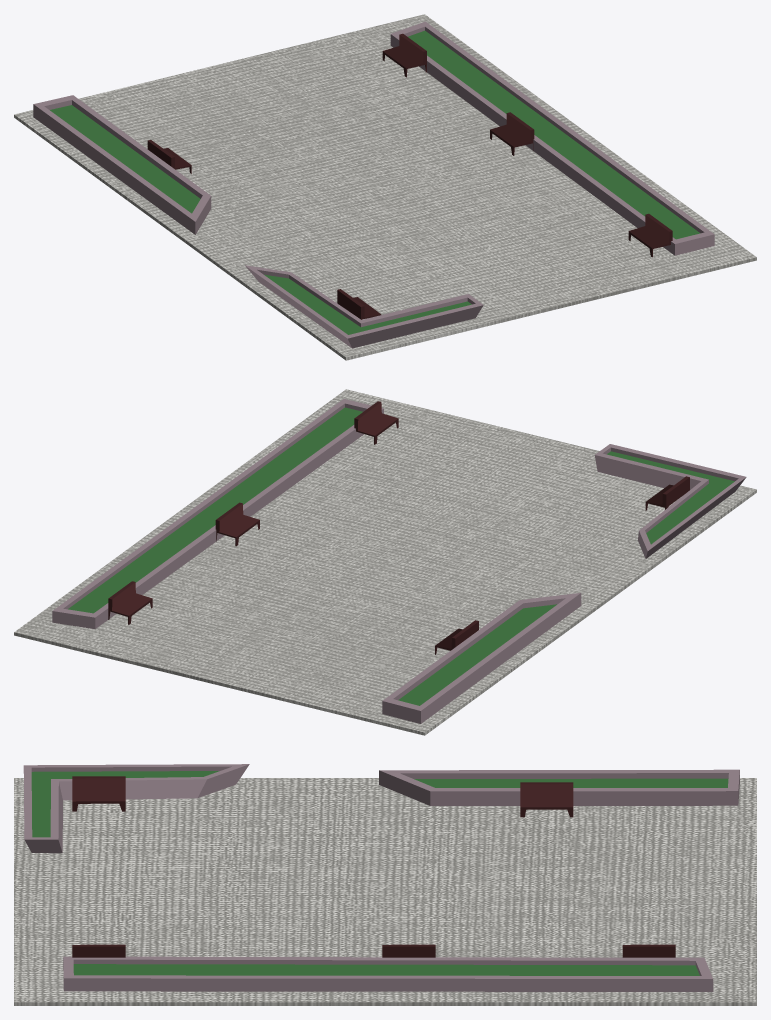
File: plaza.glb
3 renders of one model, top to bottom at view 1: azimuth 30°, elevation 25°; view 2: azimuth 150°, elevation 25°; view 3: azimuth 270°, elevation 25°, orthographic. The views are drawn at different scales.
Parts seen in each view (by area): view 1: basebancas, banca, baca, banca.001, banca.002; view 2: basebancas, banca, baca, banca.001, banca.002; view 3: basebancas, banca.002, banca.003, banca, baca, banca.001.
Part boxes in pixels (x1,y1,x2,y2): basebancas: (14, 14, 756, 360); banca: (382, 33, 426, 77); baca: (490, 112, 534, 155); banca.001: (628, 213, 672, 257); banca.002: (337, 289, 381, 319); basebancas: (14, 389, 756, 735); banca: (108, 581, 152, 624); baca: (215, 502, 259, 546); banca.001: (354, 401, 398, 444); banca.002: (645, 476, 689, 510); basebancas: (14, 764, 756, 1005); banca.002: (72, 776, 125, 811); banca.003: (520, 782, 573, 817); banca: (622, 944, 675, 957); baca: (382, 944, 435, 957); banca.001: (72, 944, 125, 957).
Size of the model in its own units: 20 by 1.14 by 28.
8 materials, 1 textured.
